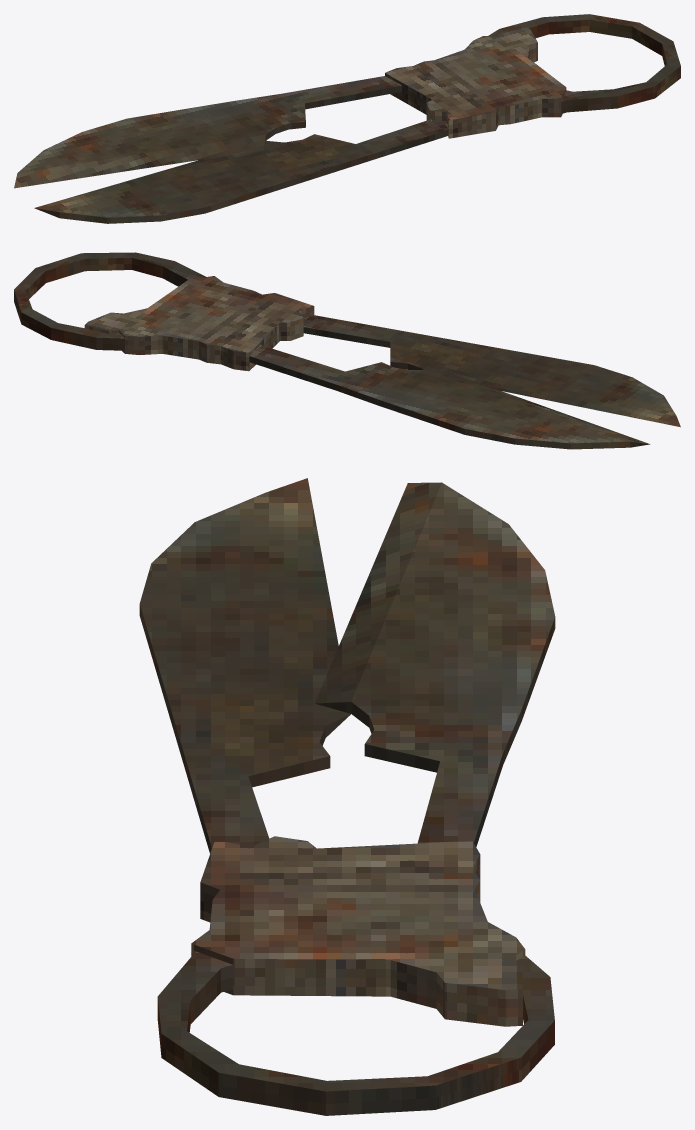
The model's file is misc_tool_mx_2.glb.
The picture shows the model from 3 angles, top to bottom: view 1: azimuth 30°, elevation 25°; view 2: azimuth 150°, elevation 25°; view 3: azimuth 270°, elevation 25°; orthographic projection. The views are drawn at different scales.
Visible parts, largest first — view 1: misc_tool_mx_2; view 2: misc_tool_mx_2; view 3: misc_tool_mx_2.
Boxes of the visible parts, x1,y1,x2,y2 form: misc_tool_mx_2: (14,14,680,223); misc_tool_mx_2: (14,252,680,449); misc_tool_mx_2: (139,478,555,1115).
Bounding box in the file's own units: 0.2753 × 0.0075 × 0.0773.
Materials: 1 (1 with a texture image).
